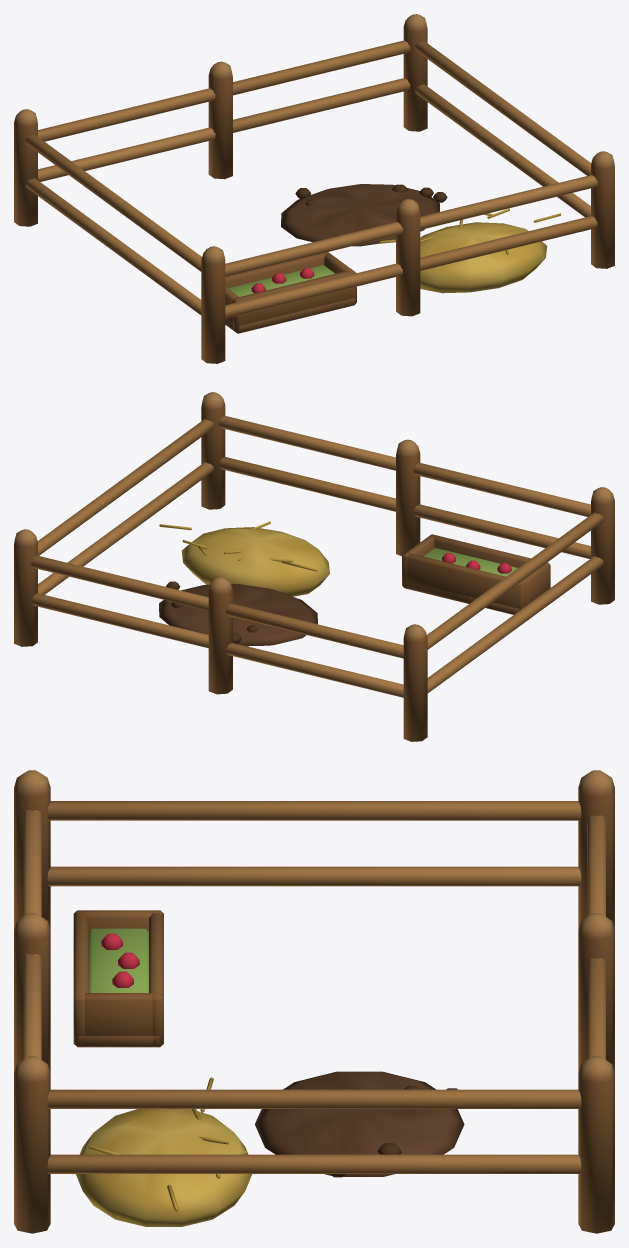
File: pig-pen.glb
The picture shows the model from 3 angles, top to bottom: view 1: azimuth 30°, elevation 25°; view 2: azimuth 150°, elevation 25°; view 3: azimuth 270°, elevation 25°; orthographic projection. The views are drawn at different scales.
Visible parts, largest first — view 1: pig-pen; view 2: pig-pen; view 3: pig-pen.
Part boxes in pixels (bbox=[...]): pig-pen: bbox=[14, 14, 614, 363]; pig-pen: bbox=[14, 392, 614, 741]; pig-pen: bbox=[14, 770, 614, 1233].
Size of the model in its own units: 1.9 by 0.6144 by 1.6.
